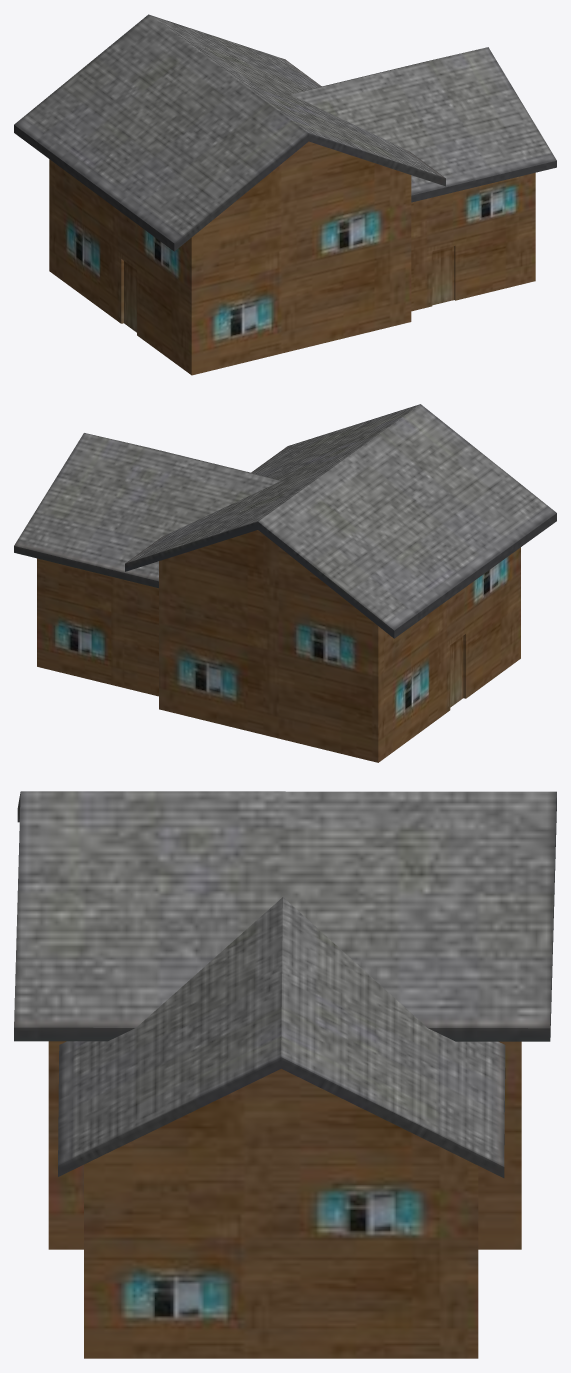
File: Rumah 4.fbx
3 renders of one model, top to bottom at view 1: azimuth 30°, elevation 25°; view 2: azimuth 150°, elevation 25°; view 3: azimuth 270°, elevation 25°, orthographic. The views are drawn at different scales.
Visible parts, largest first — view 1: texture 1.003; view 2: texture 1.003; view 3: texture 1.003.
Part boxes in pixels (box(x1,y1,x2,y2)): texture 1.003: box(14, 14, 556, 375); texture 1.003: box(14, 404, 556, 762); texture 1.003: box(14, 791, 556, 1358).
Size of the model in its own units: 1752 by 939 by 1252.
Materials: 1 (1 with a texture image).
